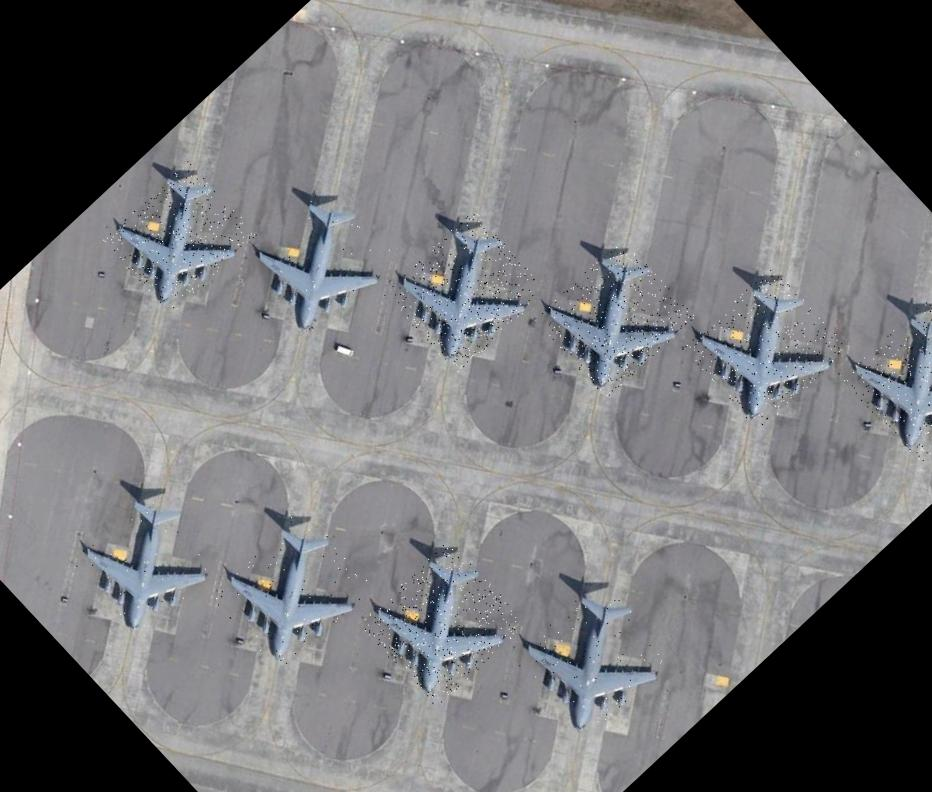A3: (358, 539, 528, 708), (682, 265, 849, 432), (208, 507, 375, 673), (382, 209, 548, 374), (509, 576, 674, 742), (533, 237, 695, 399), (241, 182, 402, 344), (66, 484, 225, 642), (101, 160, 258, 316), (840, 296, 932, 463)
